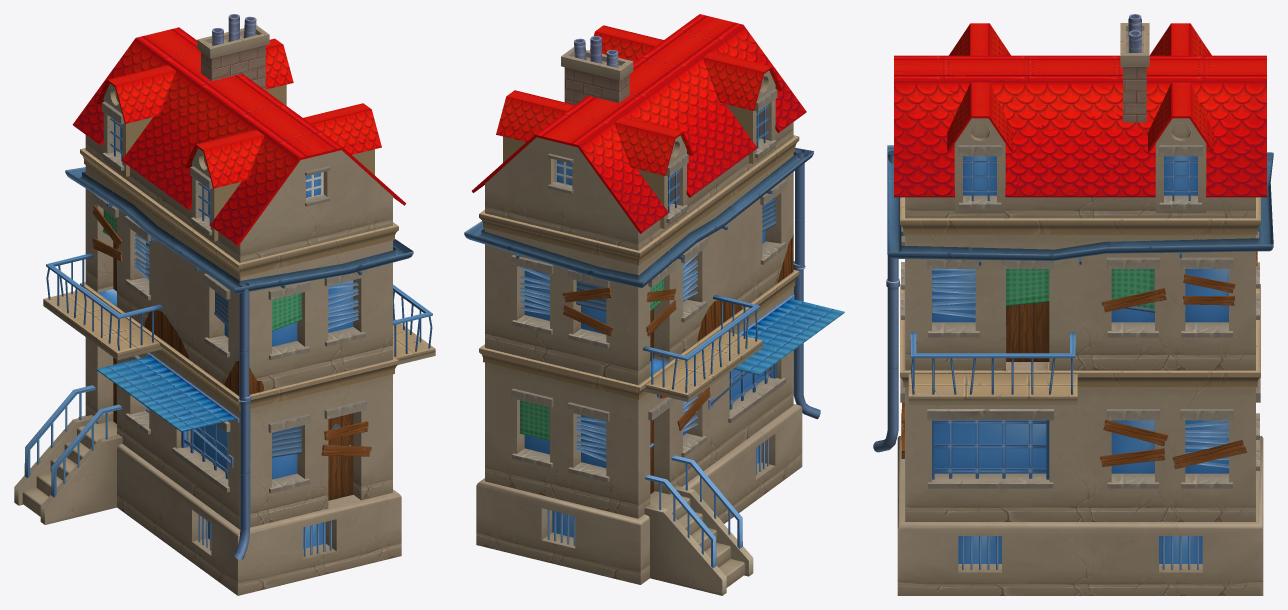
Rendered from Building_01_4.fbx.
3 renders of one model, left to right at view 1: azimuth 30°, elevation 25°; view 2: azimuth 150°, elevation 25°; view 3: azimuth 270°, elevation 25°, orthographic. The views are drawn at different scales.
Parts seen in each view (by area): view 1: polySurface2641; view 2: polySurface2641; view 3: polySurface2641.
Boxes of the visible parts, <box> form: polySurface2641: <box>14,14,435,595</box>; polySurface2641: <box>464,14,844,595</box>; polySurface2641: <box>873,14,1273,595</box>.
Size of the model in its own units: 719 by 1197 by 798.
